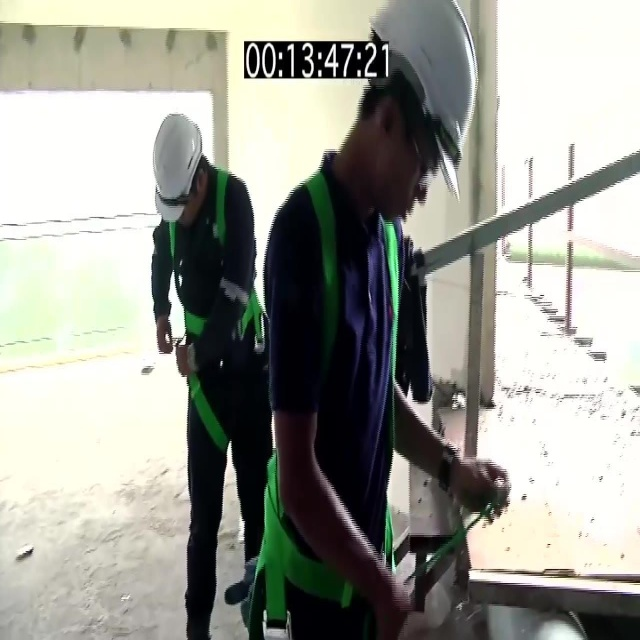Arnes_seguridad: (265, 176, 402, 632), (166, 166, 233, 457)
